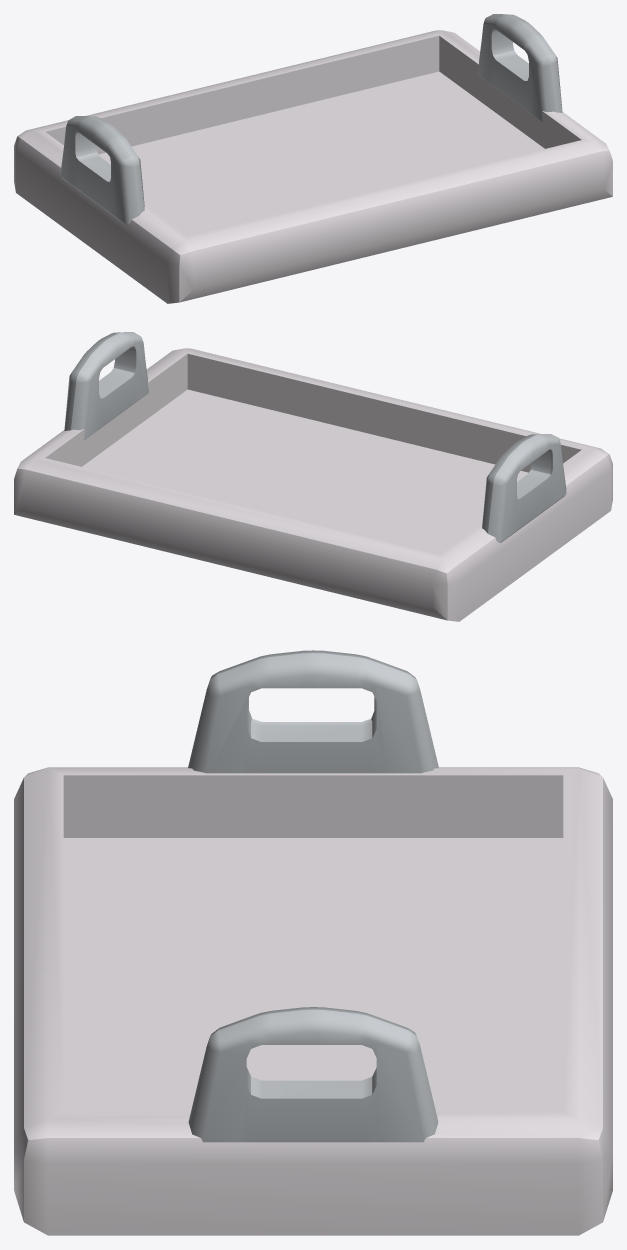
File: tepsi.fbx
3 renders of one model, top to bottom at view 1: azimuth 30°, elevation 25°; view 2: azimuth 150°, elevation 25°; view 3: azimuth 270°, elevation 25°, orthographic. The views are drawn at different scales.
Parts seen in each view (by area): view 1: pCube7, pCube12; view 2: pCube7, pCube12; view 3: pCube7, pCube12.
Boxes of the visible parts, x1,y1,x2,y2 form: pCube7: [14, 30, 612, 303]; pCube12: [60, 14, 562, 224]; pCube7: [14, 348, 612, 621]; pCube12: [64, 332, 566, 542]; pCube7: [14, 767, 612, 1235]; pCube12: [188, 650, 438, 1142].
Bounding box in the file's own units: 301 × 78.86 × 201.
Materials: 1 (1 with a texture image).
